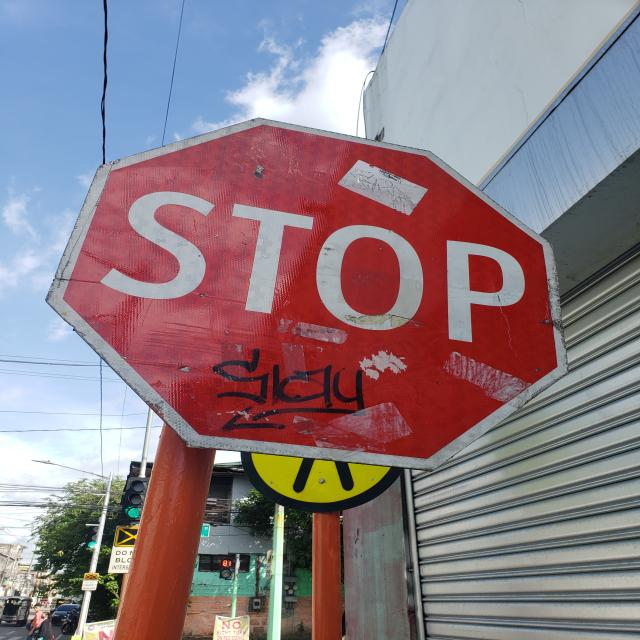stop-sign: (46, 115, 568, 471)
